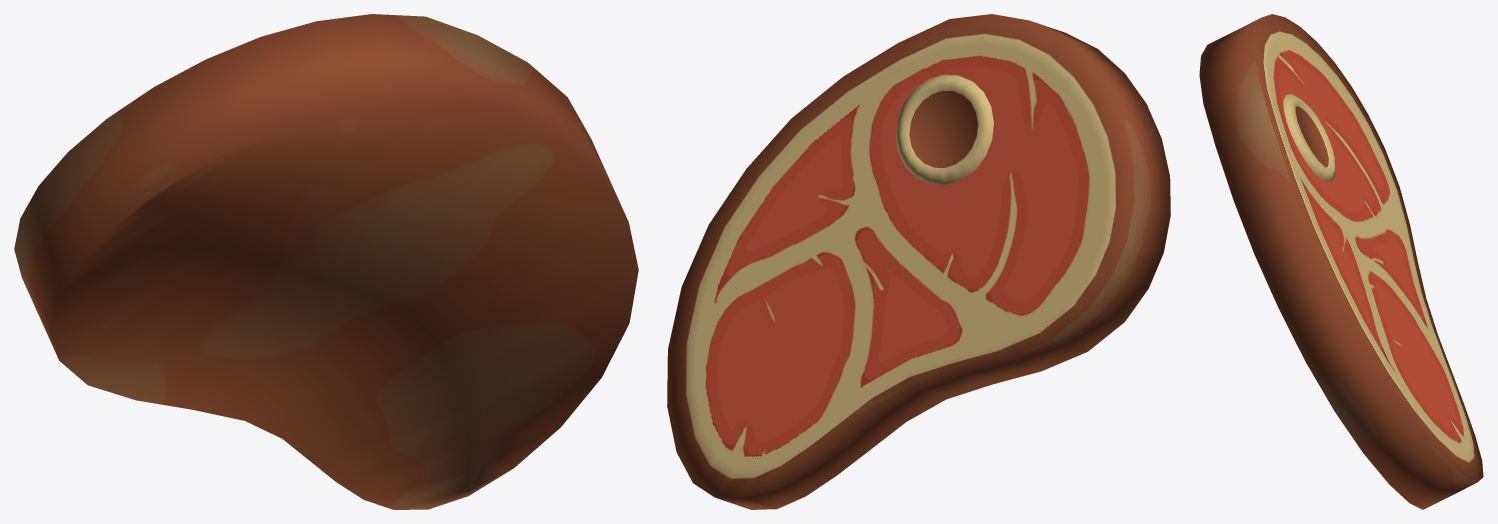
Rendered from Steak.fbx.
3 renders of one model, left to right at view 1: azimuth 30°, elevation 25°; view 2: azimuth 150°, elevation 25°; view 3: azimuth 270°, elevation 25°, orthographic. The views are drawn at different scales.
Visible parts, largest first — view 1: SteakMesh; view 2: SteakMesh; view 3: SteakMesh.
Part boxes in pixels (left/top/right/bottom): SteakMesh: left=14, top=14, right=638, bottom=509; SteakMesh: left=667, top=14, right=1170, bottom=509; SteakMesh: left=1199, top=14, right=1483, bottom=509.
Size of the model in its own units: 1.63 by 1.66 by 1.07.
1 material, 1 textured.
